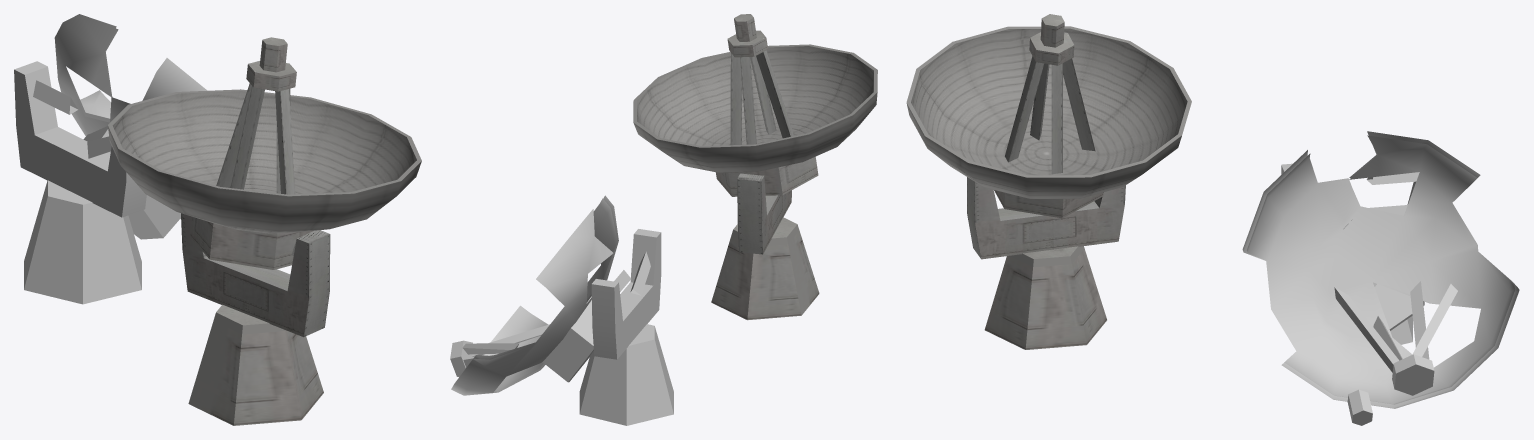
File: ComDish.dae
The picture shows the model from 3 angles, left to right: view 1: azimuth 30°, elevation 25°; view 2: azimuth 150°, elevation 25°; view 3: azimuth 270°, elevation 25°; orthographic projection. The views are drawn at different scales.
Parts seen in each view (by area): view 1: Dish, DishDEAD, DishBASE, ARM; view 2: Dish, DishDEAD, DishBASE, ARM; view 3: DishDEAD, Dish, DishBASE, ARM.
Part boxes in pixels (x1,y1,x2,y2): Dish: (107,37,421,269); DishDEAD: (14,14,206,304); DishBASE: (188,304,323,425); ARM: (181,213,330,337); Dish: (633,14,877,196); DishDEAD: (450,195,673,425); DishBASE: (711,217,819,320); ARM: (737,173,791,254); DishDEAD: (1242,131,1519,425); Dish: (906,14,1191,218); DishBASE: (984,246,1106,349); ARM: (967,177,1125,259).
Size of the model in its own units: 7.99 by 8.17 by 13.89.
